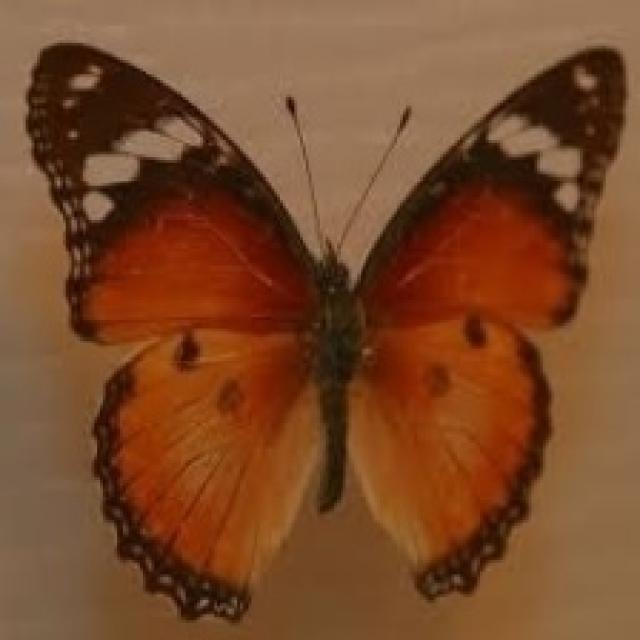butterfly: (20, 37, 626, 623)
